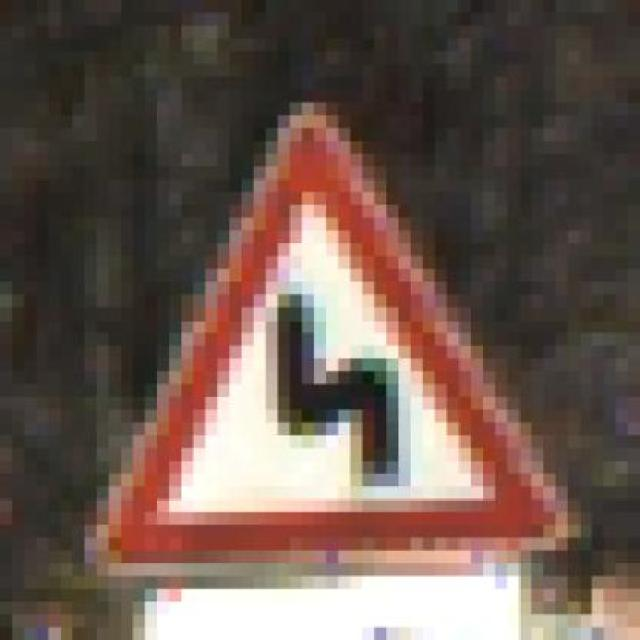Left Zig Zag Traffic: (72, 52, 568, 576)
